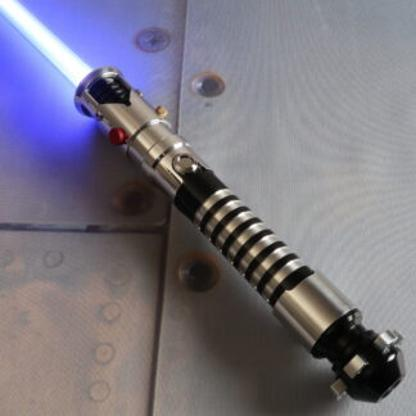lightsaber: (0, 1, 413, 408)
